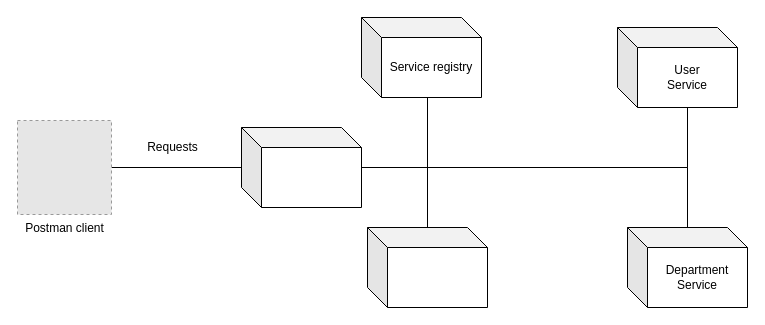
Some shapes in this 765 by 325 pixel diagram are drawn without their labels. Grey dashed boxes stand in for pictures. Each missing label, with the centre of its shape:
API Gateway: pixel 301 167
Config server: pixel 427 267
